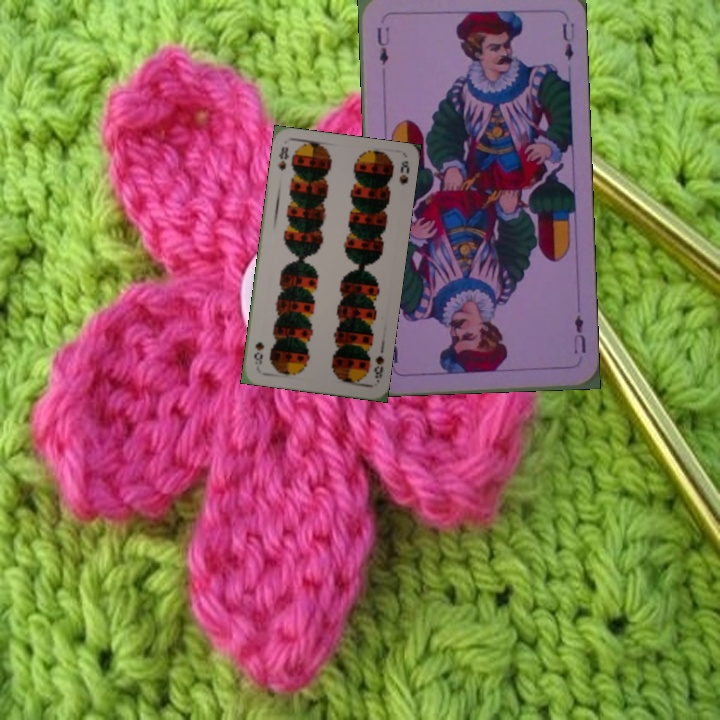EU: (569, 311, 589, 356), (373, 23, 392, 67)
S8: (370, 352, 386, 385), (274, 142, 291, 173)
